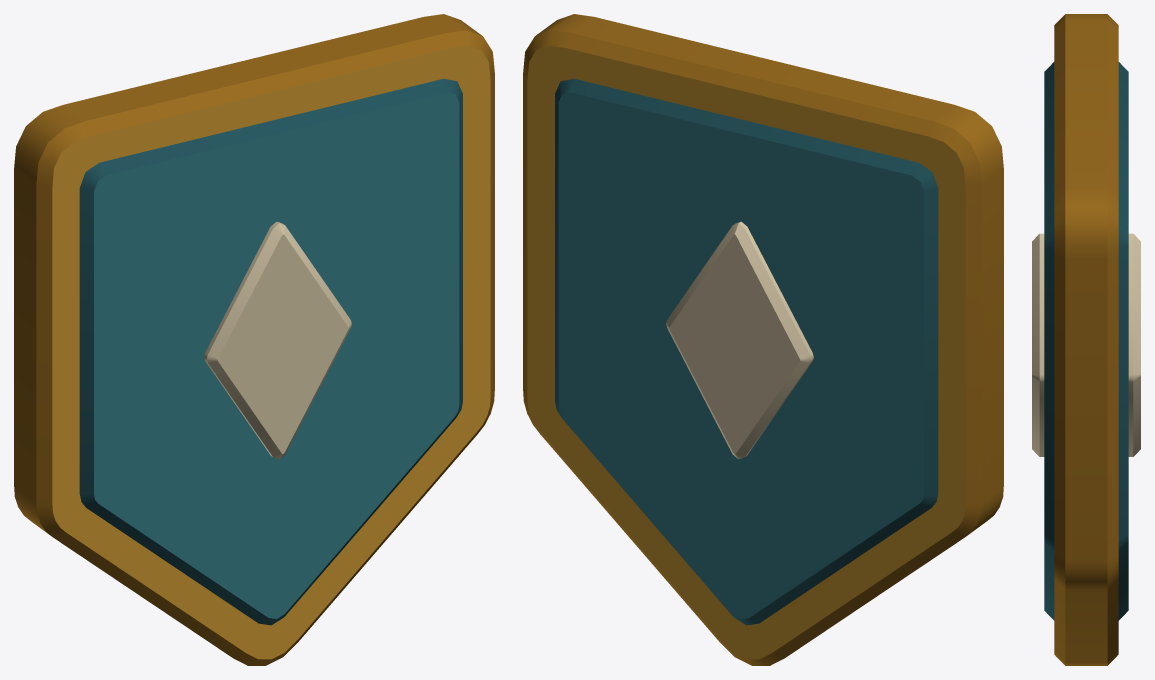
Rendered from Badge_35.glb.
3 renders of one model, left to right at view 1: azimuth 30°, elevation 25°; view 2: azimuth 150°, elevation 25°; view 3: azimuth 270°, elevation 25°, orthographic. The views are drawn at different scales.
Visible parts, largest first — view 1: Badge_35; view 2: Badge_35; view 3: Badge_35.
Part boxes in pixels (x1=…): Badge_35: x1=14, y1=14, x2=494, y2=665; Badge_35: x1=523, y1=14, x2=1003, y2=665; Badge_35: x1=1032, y1=14, x2=1140, y2=665.
Bounding box in the file's own units: 2.03 × 2.49 × 0.44.
